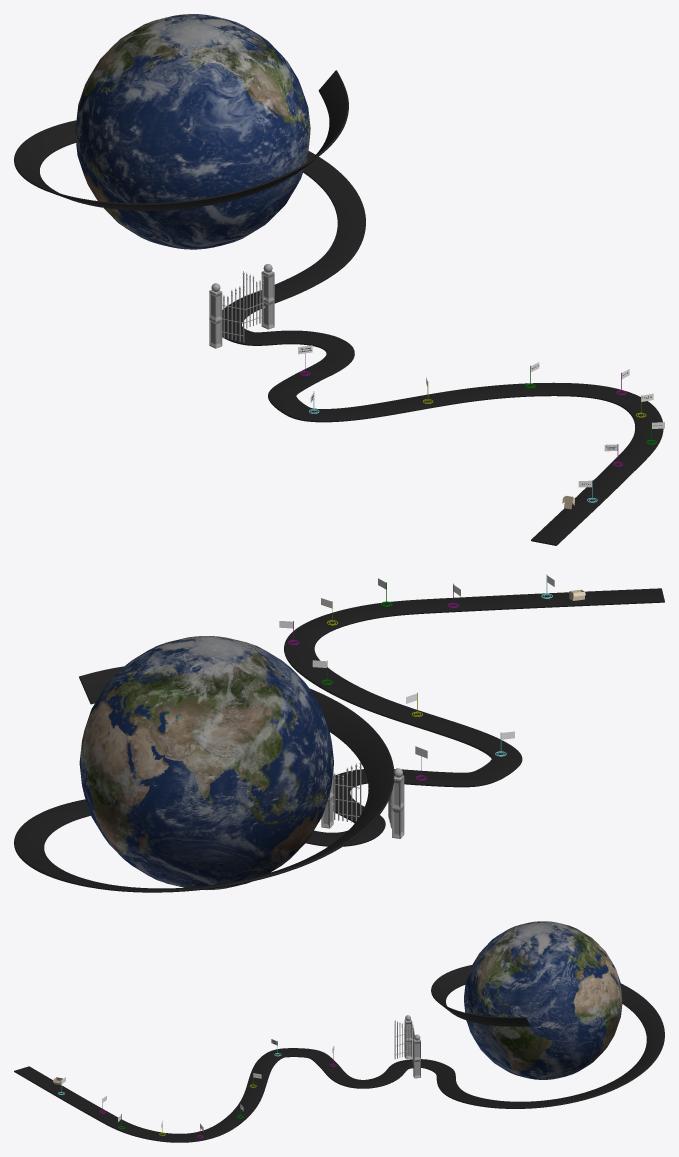
The model's file is chain_static.glb.
3 views of the same model, one above another, from view 1: azimuth 30°, elevation 25°; view 2: azimuth 150°, elevation 25°; view 3: azimuth 270°, elevation 25° (orthographic). The views are drawn at different scales.
Visible parts, largest first — view 1: Earth, road, Box008, Box001__0; view 2: Earth, road, Box008; view 3: Earth, road.
Part boxes in pixels (x1,y1,x2,y2): Earth: (75, 14, 310, 249); road: (14, 70, 663, 545); Box008: (209, 290, 222, 348); Box001__0: (261, 271, 274, 329); Earth: (79, 636, 333, 889); road: (14, 588, 664, 892); Box008: (392, 775, 404, 838); Earth: (464, 921, 622, 1079); road: (14, 965, 664, 1142).
Size of the model in its own units: 5.26 by 3.39 by 12.95.
11 materials, 1 textured.
